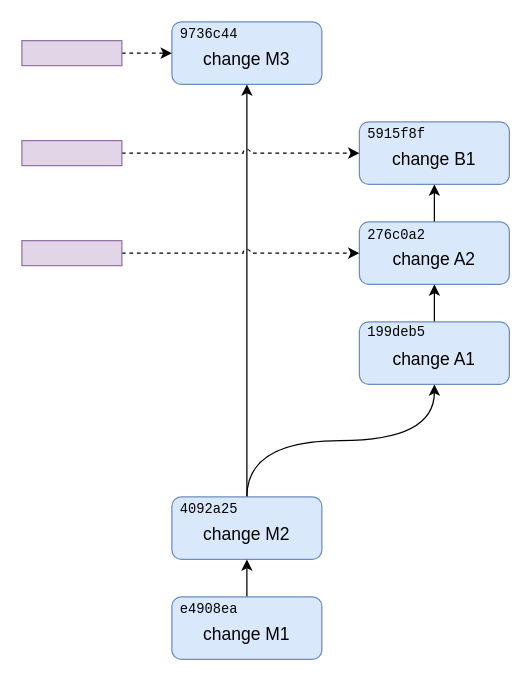
Image size: 531x681. Some labels were removed from this diagram. Each missing label, with the centre of its shape:
"feature-a" belongs at [71,252].
"feature-b" belongs at [71,152].
"main" belongs at [71,52].
